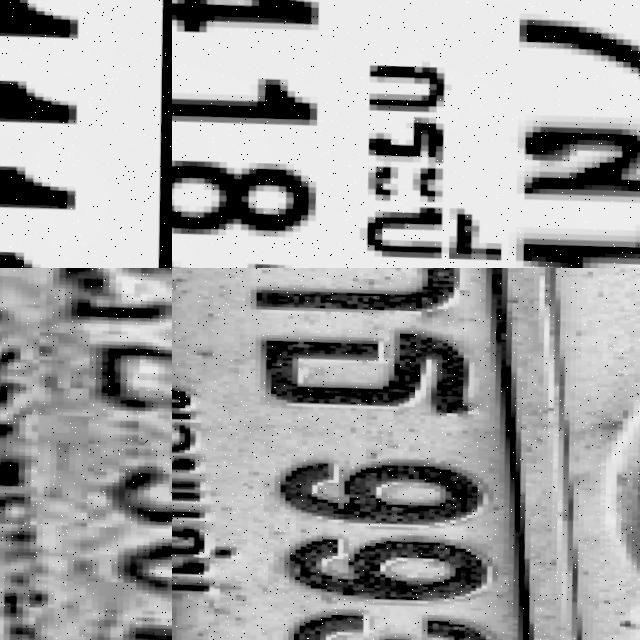license-plate: (172, 268, 640, 640), (172, 0, 640, 268), (0, 268, 172, 640), (0, 0, 172, 268)
